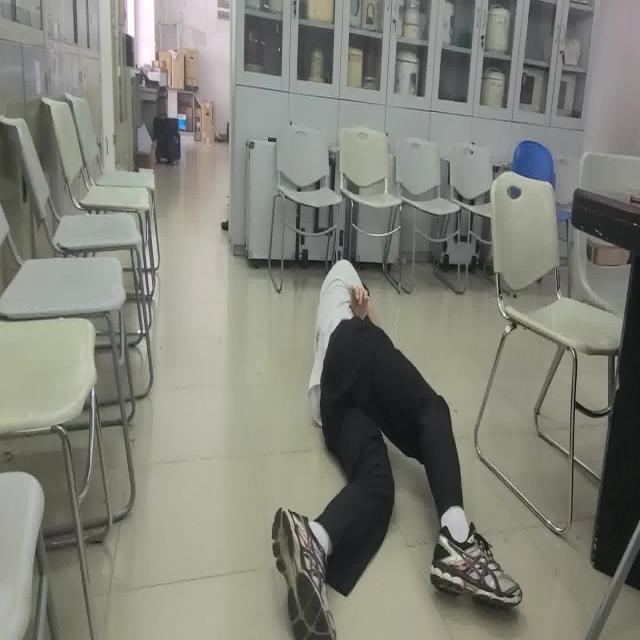fall: (269, 257, 525, 640)
